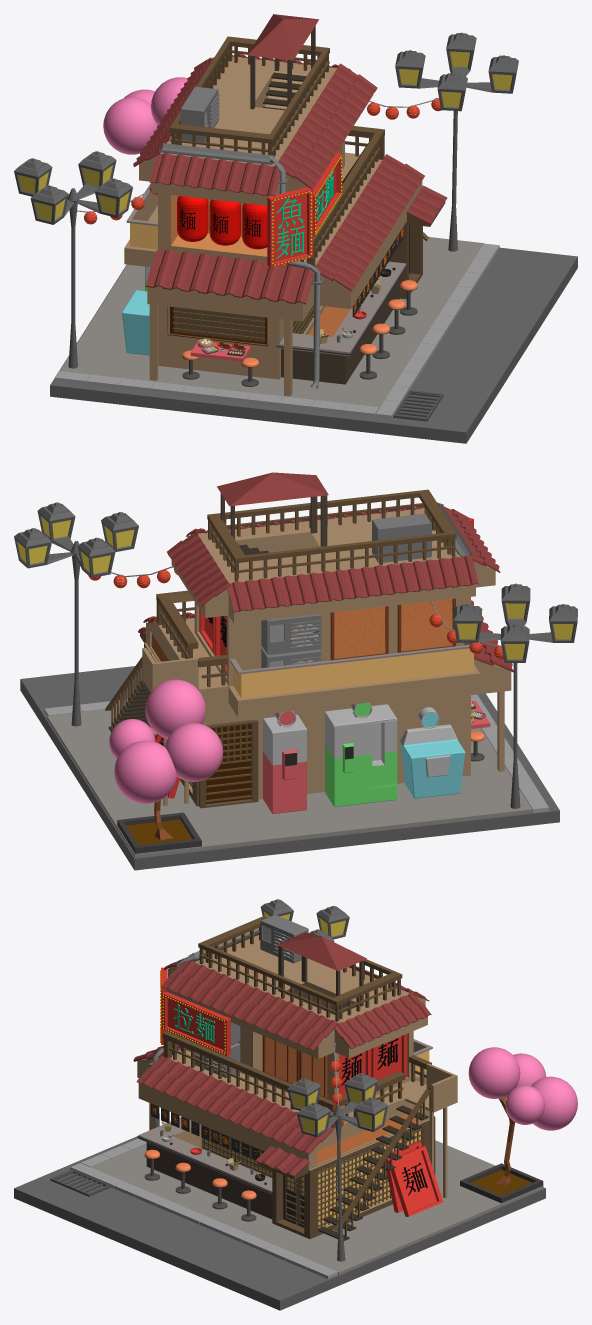
The model's file is LamemRestrantOficial.glb.
3 views of the same model, one above another, from view 1: azimuth 30°, elevation 25°; view 2: azimuth 150°, elevation 25°; view 3: azimuth 270°, elevation 25° (orthographic). The views are drawn at different scales.
Visible parts, largest first — view 1: Rua, Andar1, Piso, Andar2, MeioFio2, Poste1, Poste2, Telhado4, Arvore, Placa2, Telhado2, Telhado1 (+27 smaller); view 2: Andar1, Piso, Andar2, Rua, Arvore, SpeedCola, Poste2, Poste1, QuickReviver, CercaBase2, Juggernout, Telhado11 (+22 smaller); view 3: Rua, Andar1, Piso, Andar2, Arvore, Poste2, MeioFio2, Telhado2, Telhado7, Telhado6, Placa1, Telhado1 (+27 smaller).
Part boxes in pixels (x1,y1,x2,y2): Rua: [50, 247, 577, 443]; Andar1: [124, 152, 445, 396]; Piso: [60, 237, 483, 407]; Andar2: [139, 56, 369, 262]; MeioFio2: [54, 243, 499, 418]; Poste1: [14, 151, 132, 368]; Poste2: [395, 32, 518, 251]; Telhado4: [145, 265, 311, 304]; Arvore: [103, 77, 187, 154]; Placa2: [267, 187, 313, 267]; Telhado2: [332, 164, 424, 291]; Telhado1: [315, 154, 404, 281]; Andar1: [140, 617, 511, 808]; Piso: [47, 708, 532, 857]; Andar2: [171, 508, 495, 686]; Rua: [20, 666, 559, 870]; Arvore: [109, 679, 223, 840]; SpeedCola: [325, 702, 397, 806]; Poste2: [14, 502, 138, 726]; Poste1: [453, 583, 577, 808]; QuickReviver: [400, 707, 465, 798]; CercaBase2: [207, 489, 456, 563]; Juggernout: [263, 711, 306, 813]; Telhado11: [230, 568, 478, 612]; Rua: [14, 1136, 545, 1310]; Andar1: [137, 1039, 435, 1238]; Piso: [91, 1140, 543, 1274]; Andar2: [167, 935, 427, 1108]; Arvore: [468, 1047, 577, 1185]; Poste2: [287, 1073, 387, 1261]; MeioFio2: [70, 1138, 337, 1278]; Telhado2: [136, 1067, 321, 1154]; Telhado7: [161, 971, 325, 1050]; Telhado6: [174, 960, 337, 1037]; Placa1: [162, 992, 230, 1055]; Telhado1: [150, 1056, 333, 1142].
Size of the model in its own units: 13.46 by 6.99 by 13.79.
